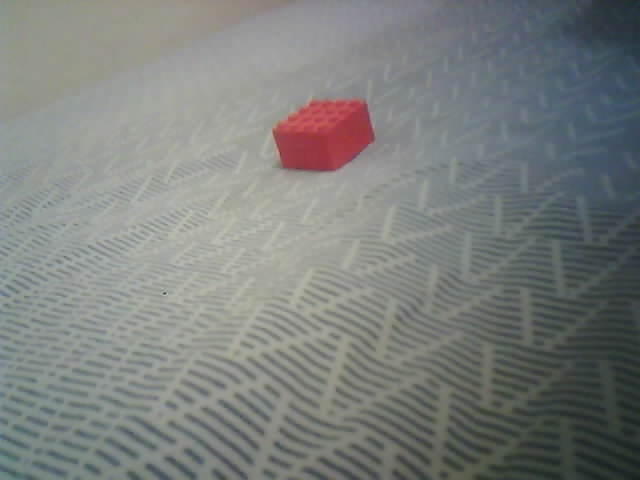lego: (271, 97, 376, 171)
